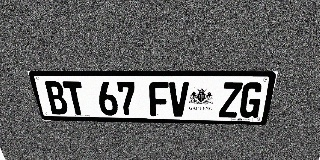6: (96, 81, 119, 116)
7: (115, 82, 137, 116)
B: (43, 81, 69, 115)
F: (149, 82, 169, 116)
G: (238, 82, 265, 118)
T: (62, 81, 87, 115)
V: (169, 82, 189, 117)
Z: (218, 82, 243, 118)
